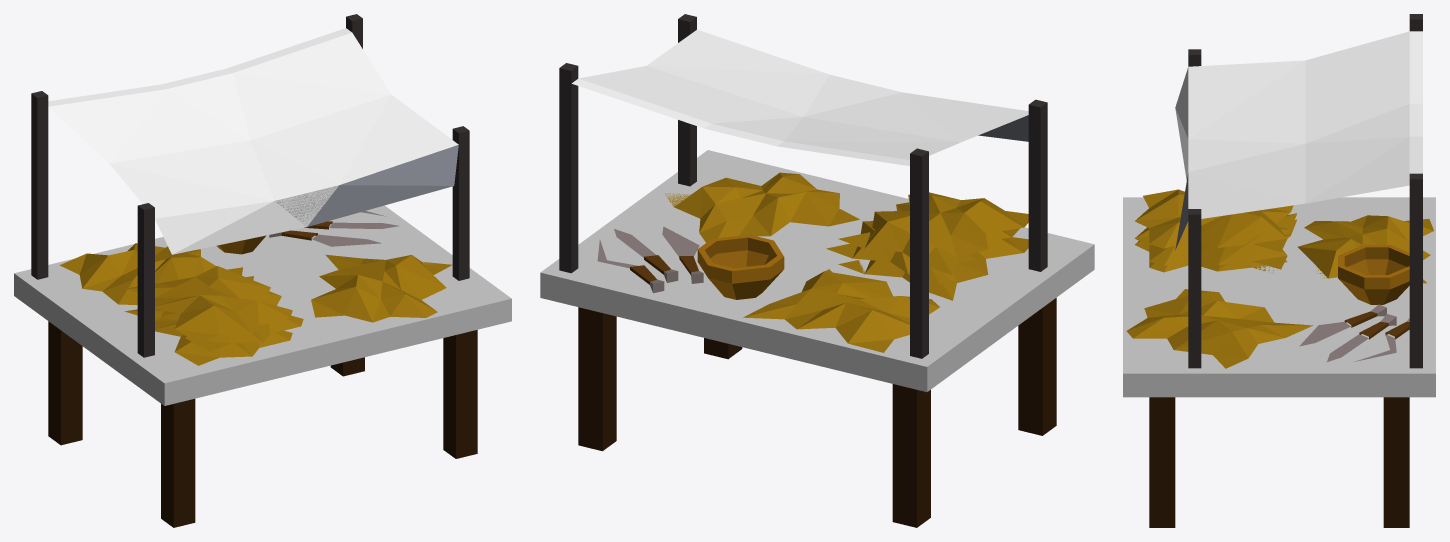
Rendered from fur_stall_8.obj.
3 renders of one model, left to right at view 1: azimuth 30°, elevation 25°; view 2: azimuth 150°, elevation 25°; view 3: azimuth 270°, elevation 25°, orthographic. The views are drawn at different scales.
Parts seen in each view (by area): view 1: 1456; view 2: 1456; view 3: 1456.
Part boxes in pixels (<box>): 1456: <box>14,14,511,527</box>; 1456: <box>540,14,1094,527</box>; 1456: <box>1123,14,1435,527</box>.
Bounding box in the file's own units: 256 × 240 × 192.
